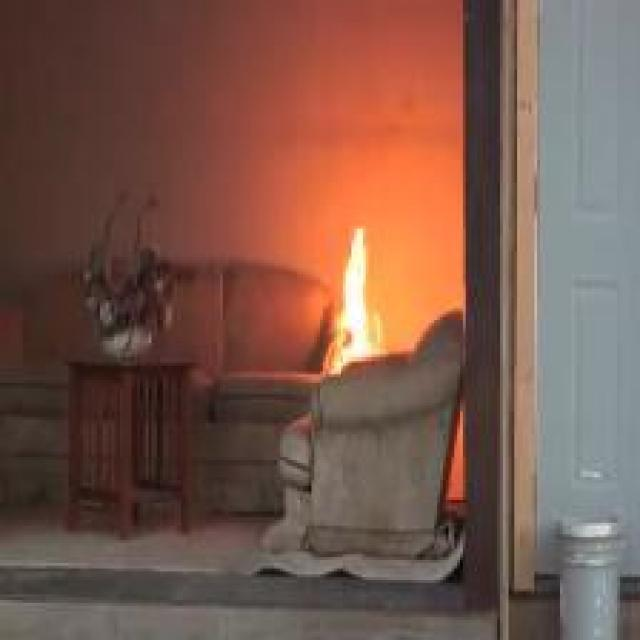Fire: (329, 228, 382, 380)
